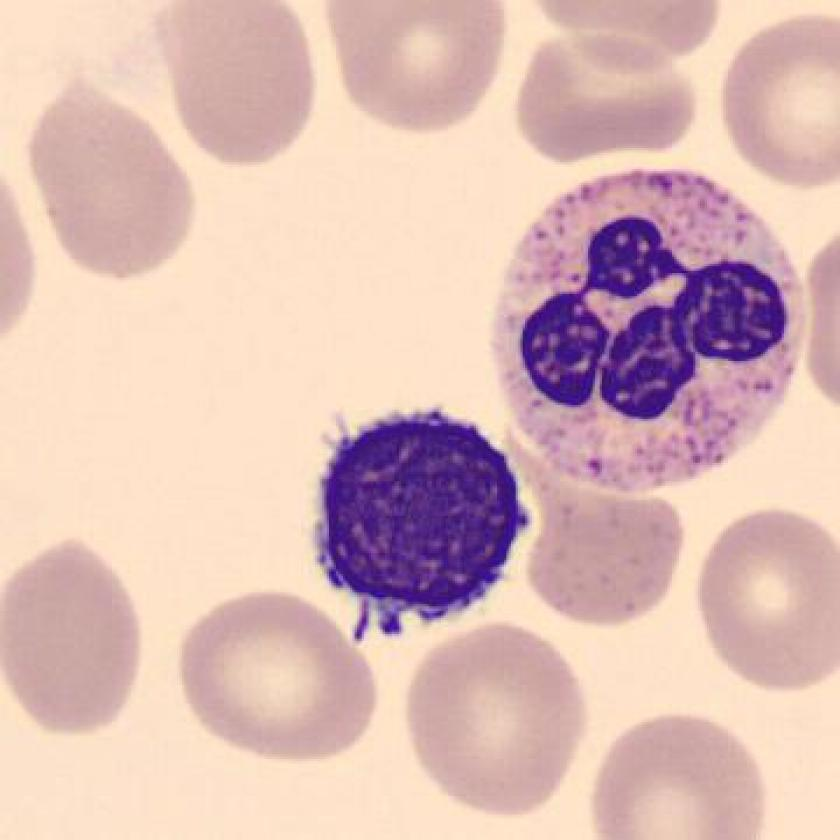lymphocyte: (300, 401, 533, 640)
